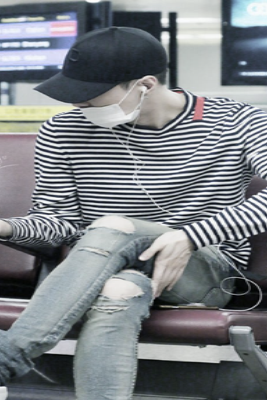mask_weared_incorrect: (73, 84, 139, 131)
